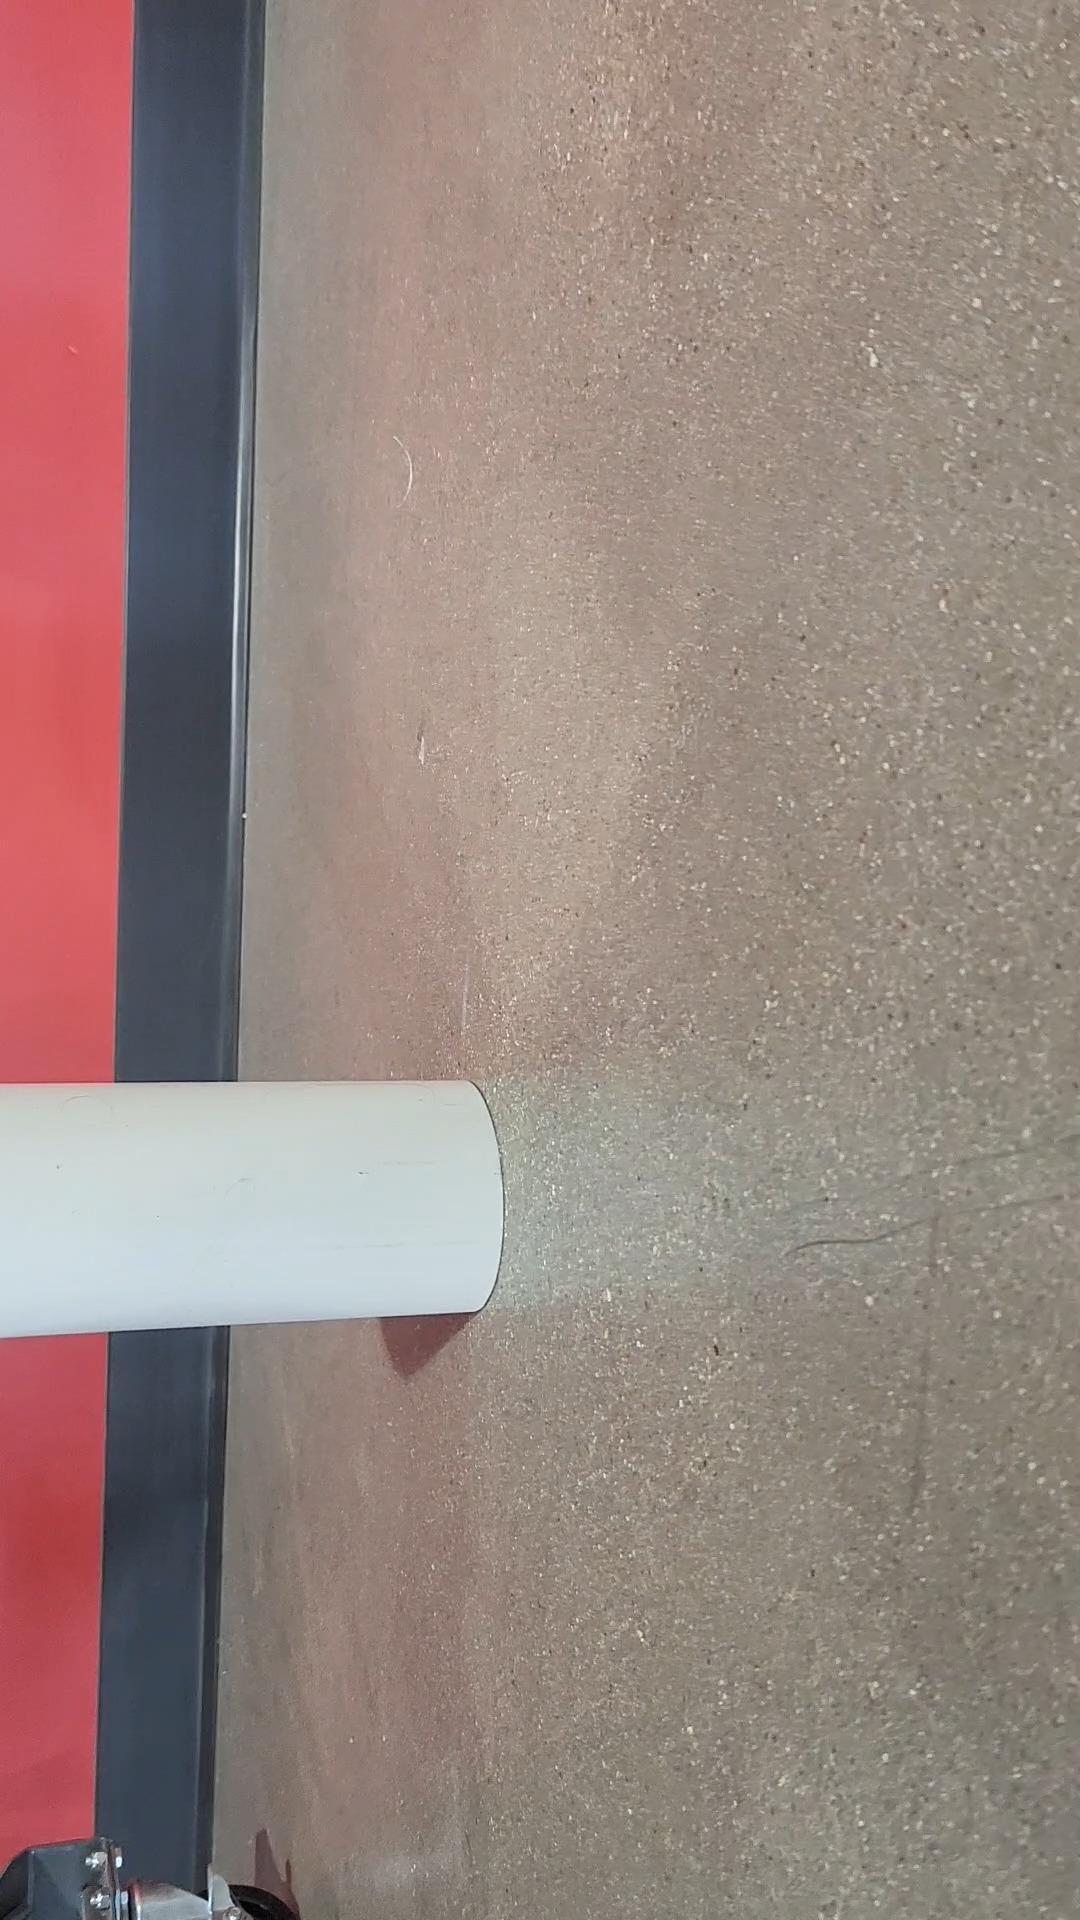coral: (0, 1068, 510, 1346)
